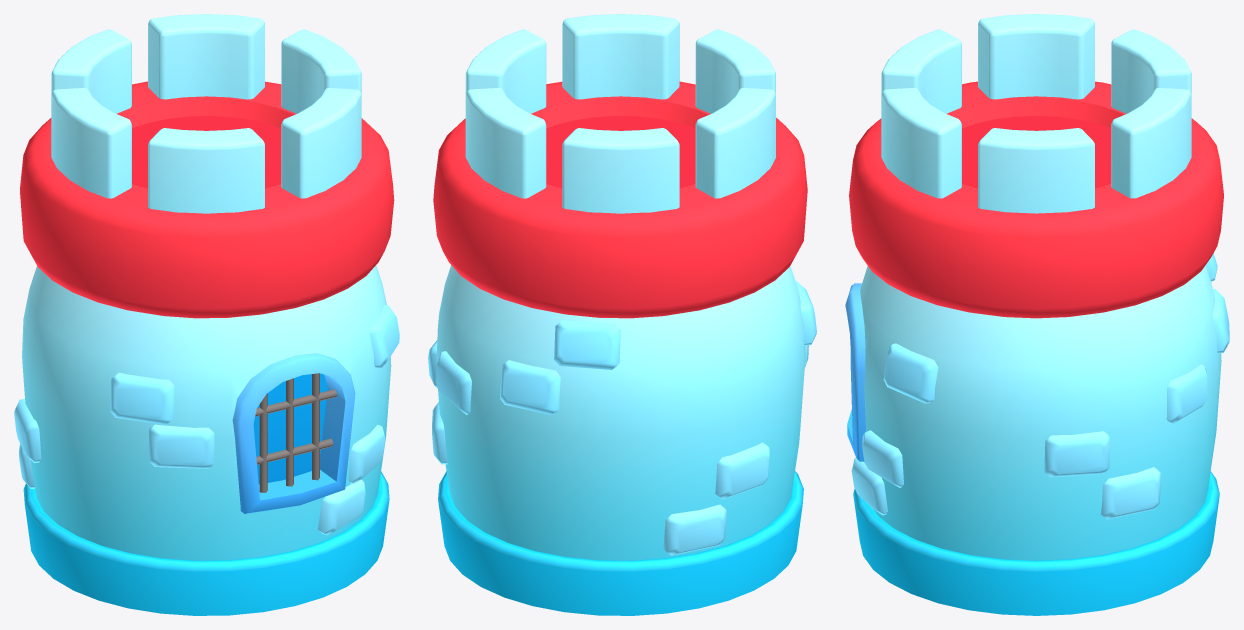
The model's file is tower_005.glb.
The picture shows the model from 3 angles, left to right: view 1: azimuth 30°, elevation 25°; view 2: azimuth 150°, elevation 25°; view 3: azimuth 270°, elevation 25°; orthographic projection.
Parts seen in each view (by area): view 1: tower_005; view 2: tower_005; view 3: tower_005.
Boxes of the visible parts, box(x1,y1,x2,y2) form: tower_005: box(14, 14, 399, 615); tower_005: box(428, 14, 816, 615); tower_005: box(845, 14, 1229, 615).
Bounding box in the file's own units: 5.93 × 7.87 × 5.93.
Materials: 1 (1 with a texture image).
